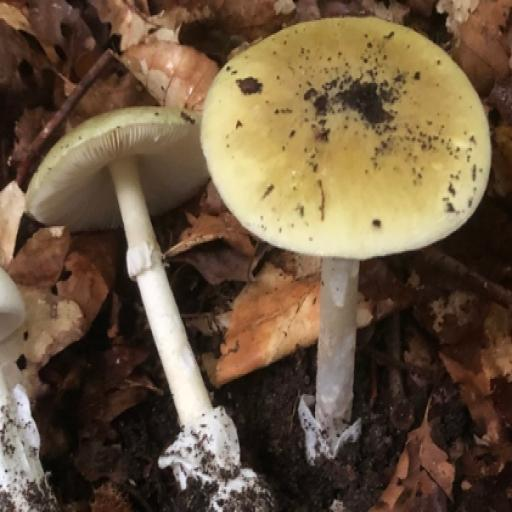mushroom: (169, 0, 512, 467), (0, 0, 1, 1)
